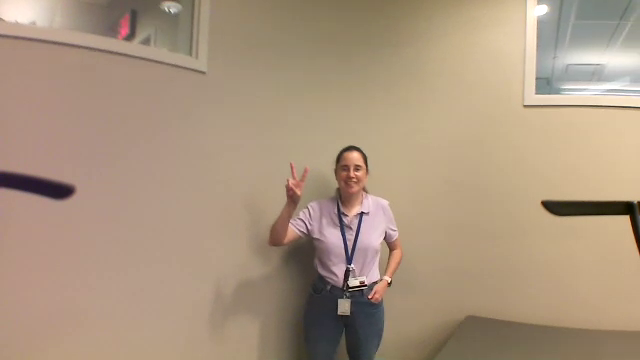peace: (279, 160, 313, 200)
